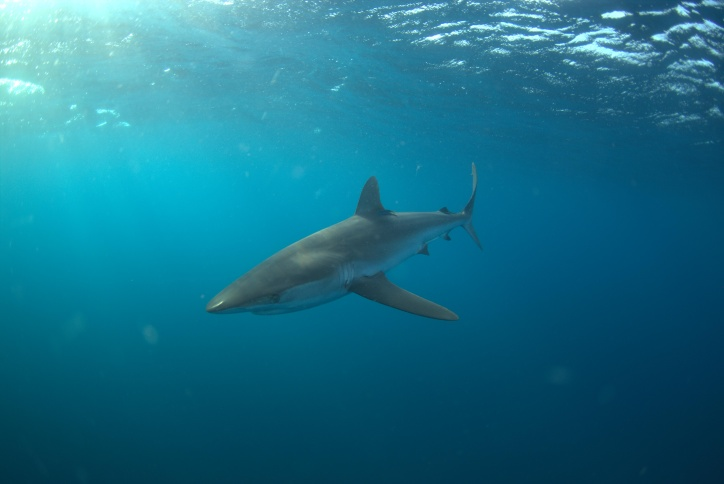Sedoso: (180, 155, 503, 346)
